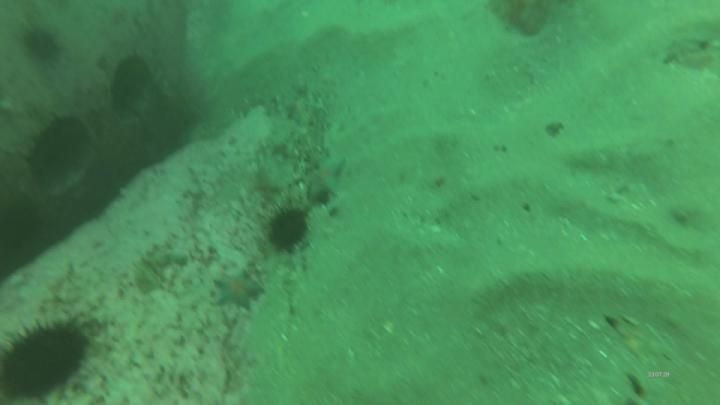echinus: (2, 321, 91, 405), (265, 200, 315, 256), (24, 26, 67, 68)
starfish: (213, 266, 267, 313), (299, 153, 348, 203)
